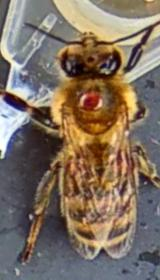varroa_mite: (72, 82, 108, 122)
